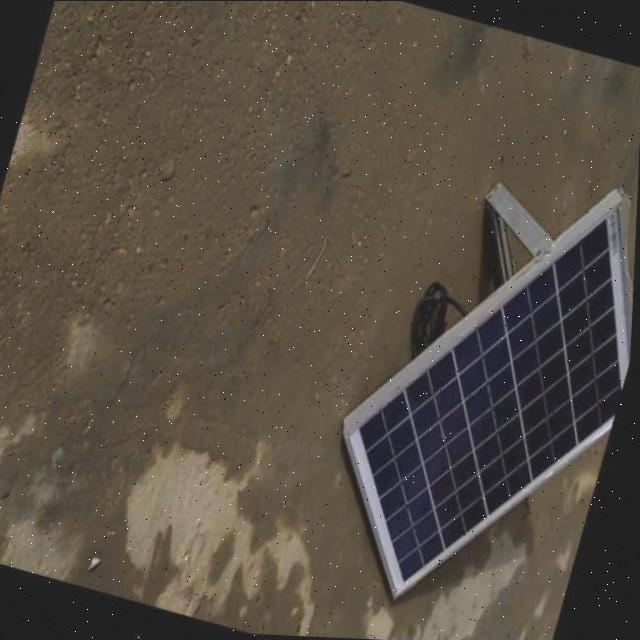Normal Solar Panel: (308, 130, 640, 640)
